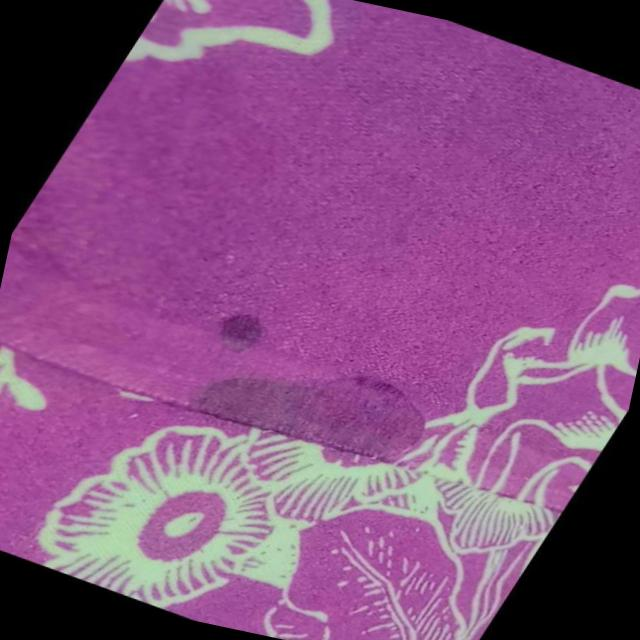stain: (144, 284, 480, 503)
